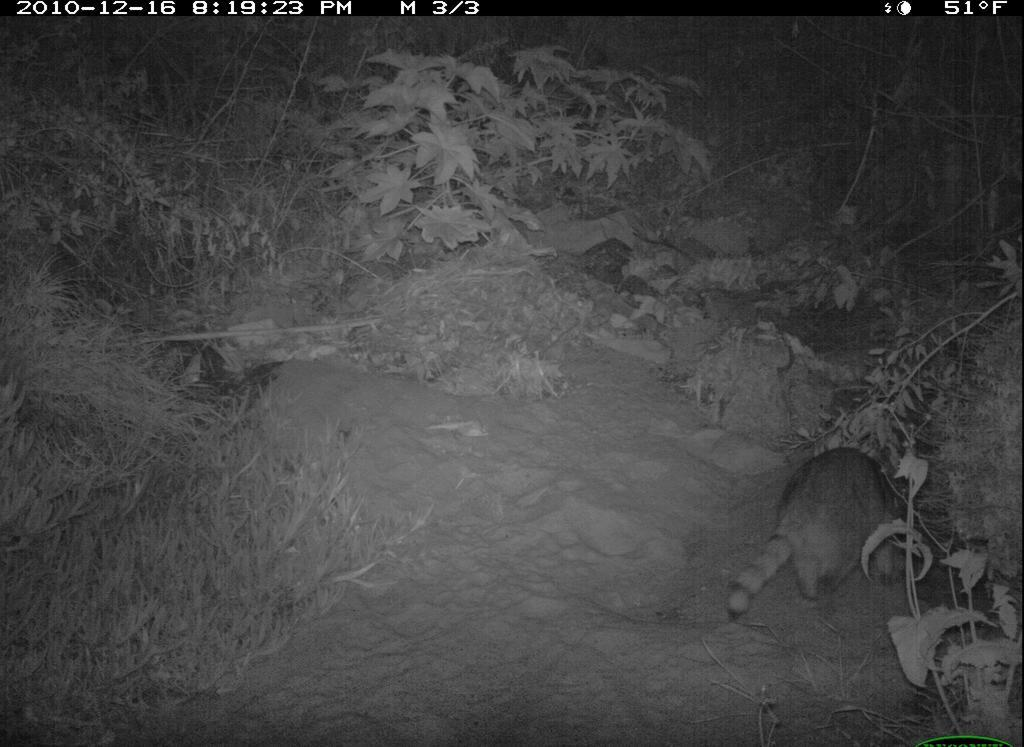raccoon: (721, 440, 918, 634)
